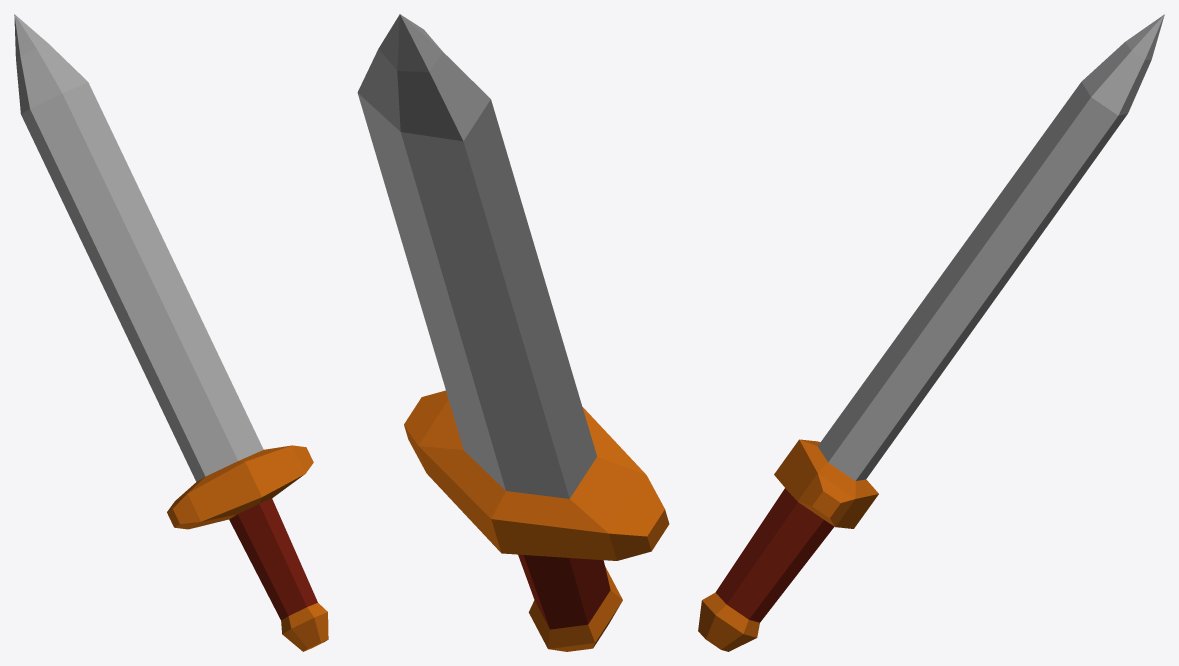
File: animated_simpleSword.FBX
3 views of the same model, side by side, from view 1: azimuth 30°, elevation 25°; view 2: azimuth 150°, elevation 25°; view 3: azimuth 270°, elevation 25° (orthographic). The views are drawn at different scales.
Visible parts, largest first — view 1: Cylinder; view 2: Cylinder; view 3: Cylinder.
Boxes of the visible parts, left/top/right/bottom form: Cylinder: left=14, top=14, right=328, bottom=651; Cylinder: left=357, top=14, right=669, bottom=651; Cylinder: left=698, top=14, right=1164, bottom=651.
Size of the model in its own units: 115 by 351 by 255.
